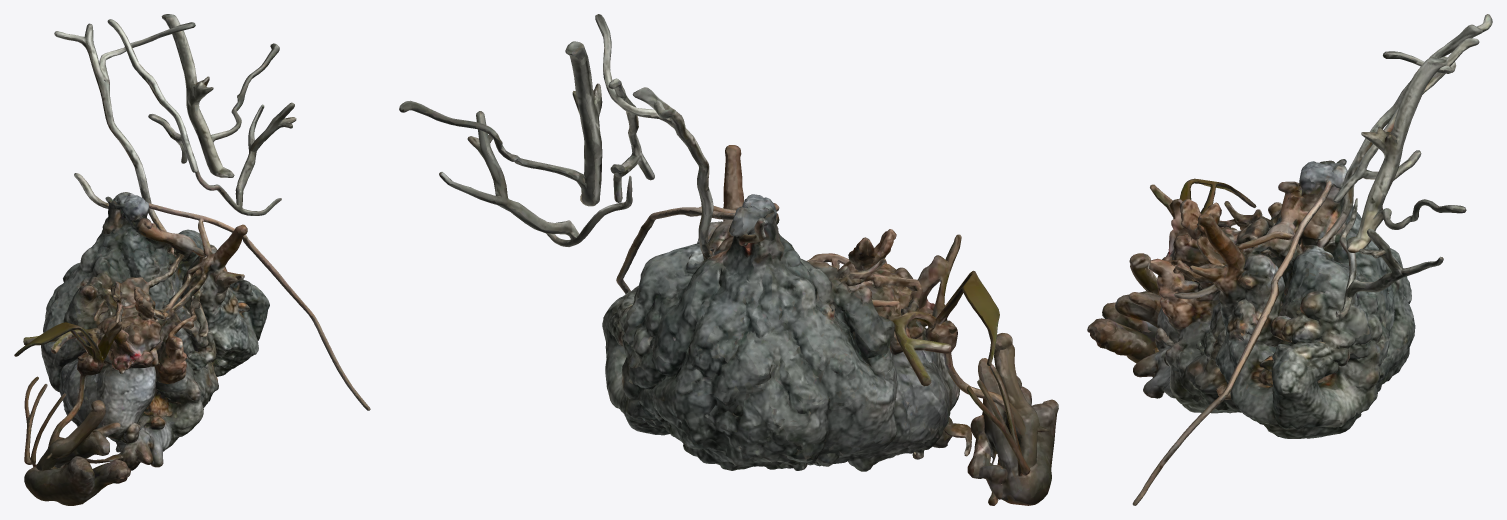
File: bark-flake-v11.glb
The picture shows the model from 3 angles, left to right: view 1: azimuth 30°, elevation 25°; view 2: azimuth 150°, elevation 25°; view 3: azimuth 270°, elevation 25°; orthographic projection. The views are drawn at different scales.
Visible parts, largest first — view 1: geometry_0; view 2: geometry_0; view 3: geometry_0.
Boxes of the visible parts, x1,y1,x2,y2 form: geometry_0: (14, 14, 370, 505); geometry_0: (399, 14, 1058, 505); geometry_0: (1087, 14, 1492, 505).
Size of the model in its own units: 0.45 by 0.4354 by 0.358.
1 material, 1 textured.
